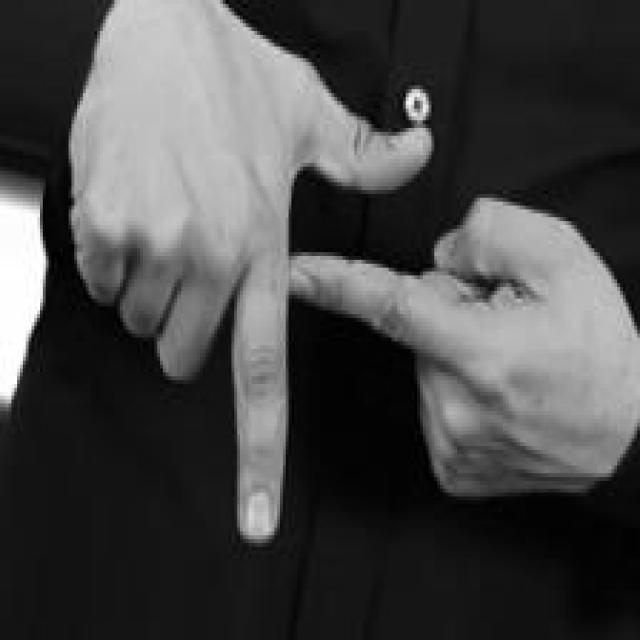F: (67, 0, 640, 547)
